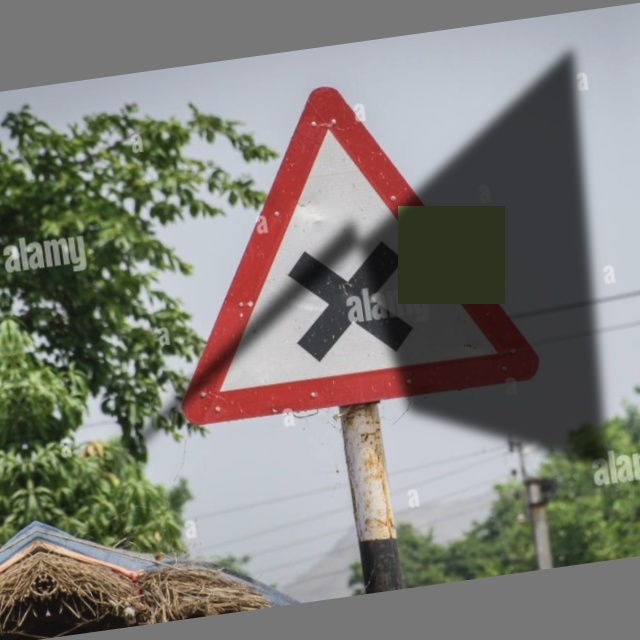Cross_Road: (139, 59, 545, 426)
